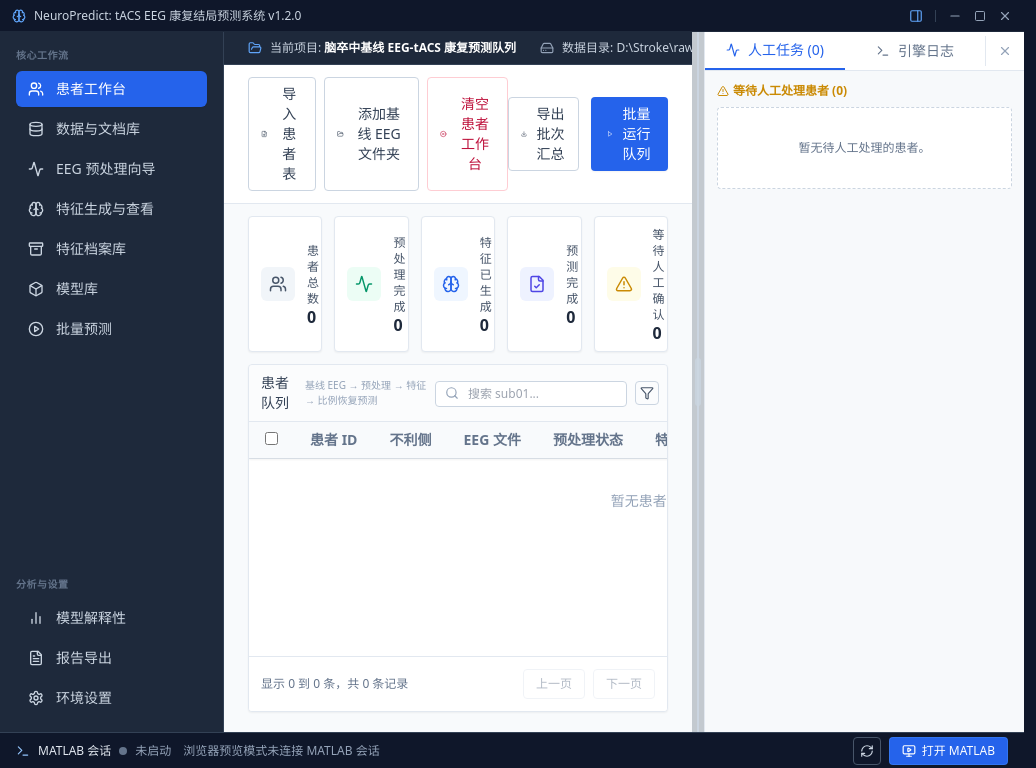
settings persistence in the active app › loads existing MATLAB settings and saves the edited value through the bridge
Click the button "环境设置": (112, 698) [16,680,207,716]
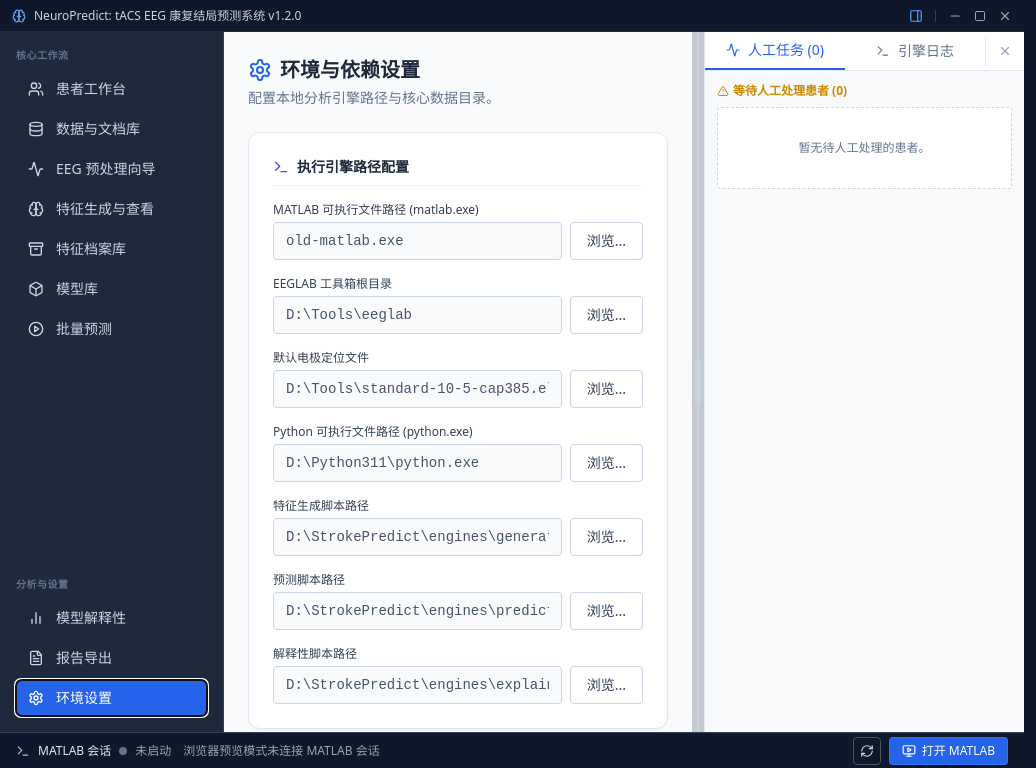
Expected: the field labelled "MATLAB 可执行文件路径 (matlab.exe)" holds "old-matlab.exe"
Expected: the field labelled "Python 可执行文件路径 (python.exe)" holds "D:\\Python311\\python.exe", [273,444,562,482]
Expected: the field labelled "预测脚本路径" holds "D:\\StrokePredict\\engines\\predict_recovery.py", [273,592,562,630]
Replace the text in the field labelled "MATLAB 可执行文件路径 (matlab.exe)" with "new-matlab.exe": (417, 241) [273,222,562,260]
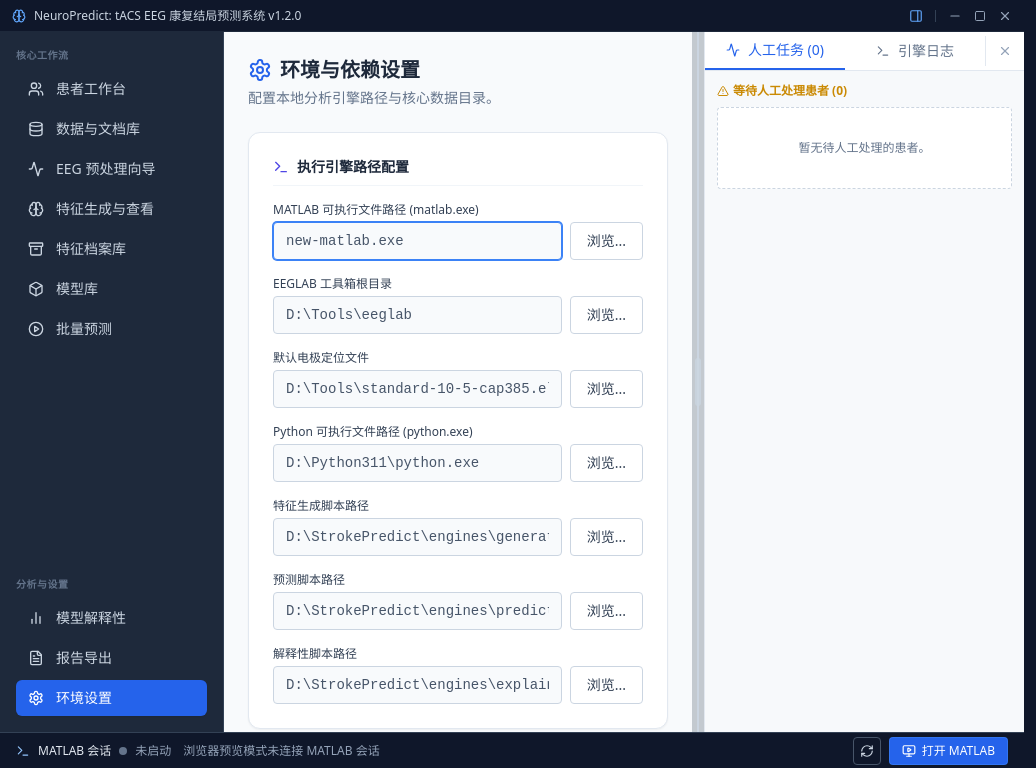
Replace the text in the field labelled "Python 可执行文件路径 (python.exe)" with "D:\\Python312\\python.exe": (417, 463) [273,444,562,482]
(page scrolled)
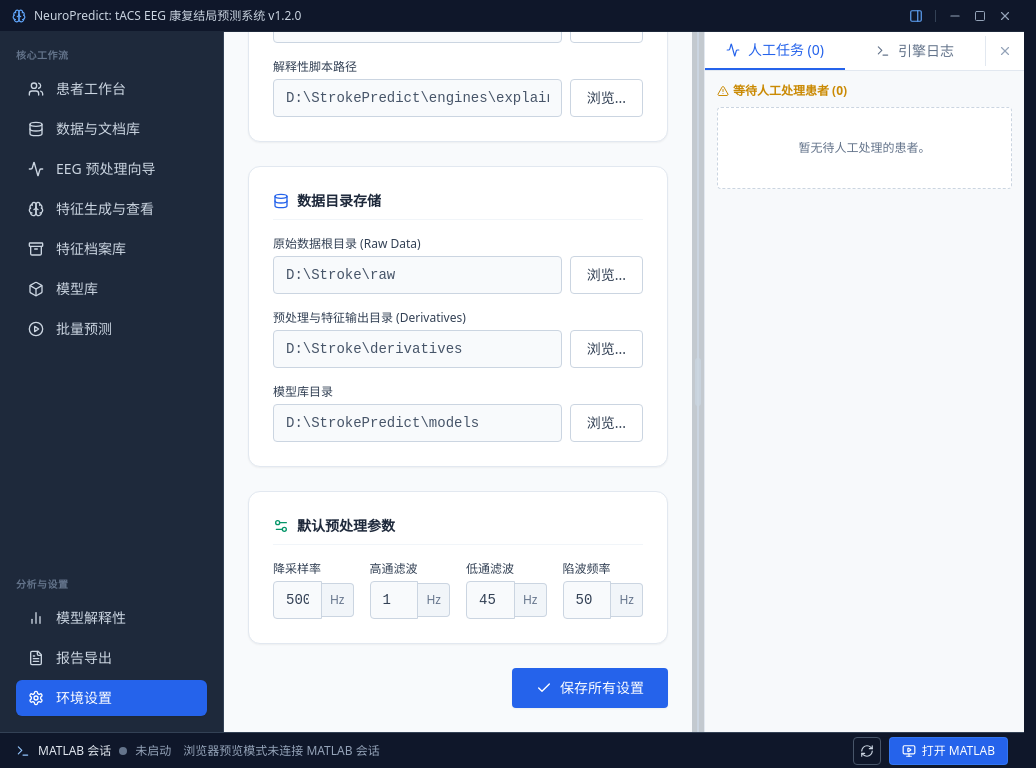
Click the button "保存所有设置": (590, 688) [512,668,668,708]
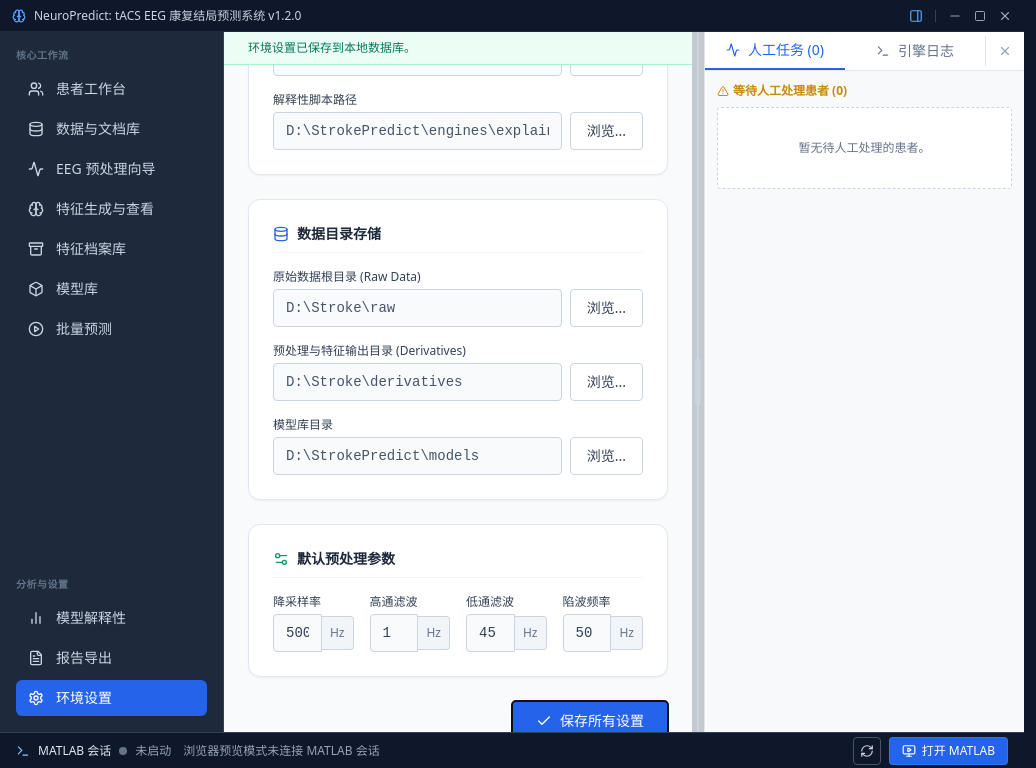
Expected: the text "环境设置已保存到本地数据库。" is shown, [224,32,692,65]
